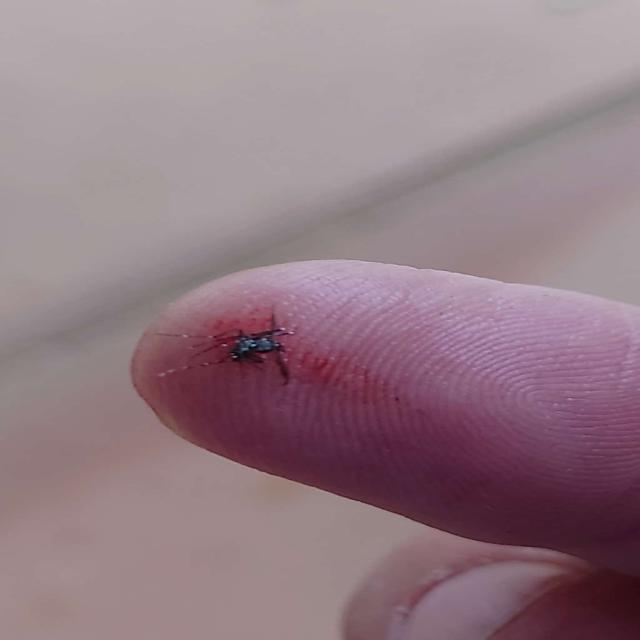albopictus: (140, 312, 306, 391)
